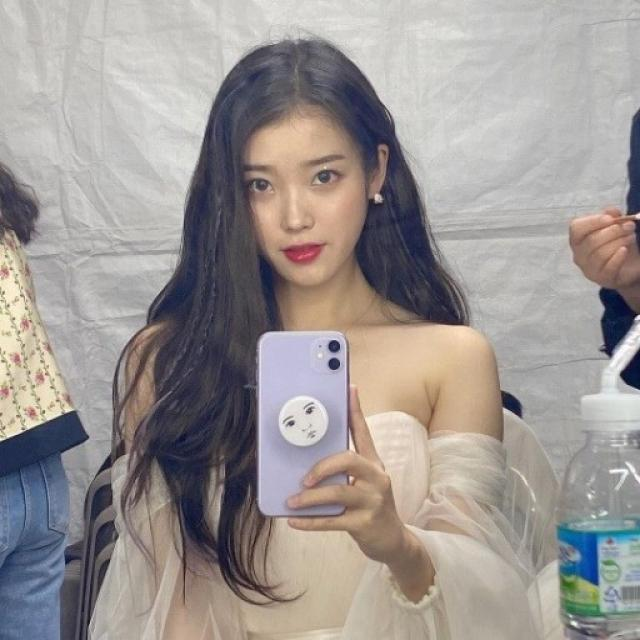Mobile: (254, 324, 357, 523)
